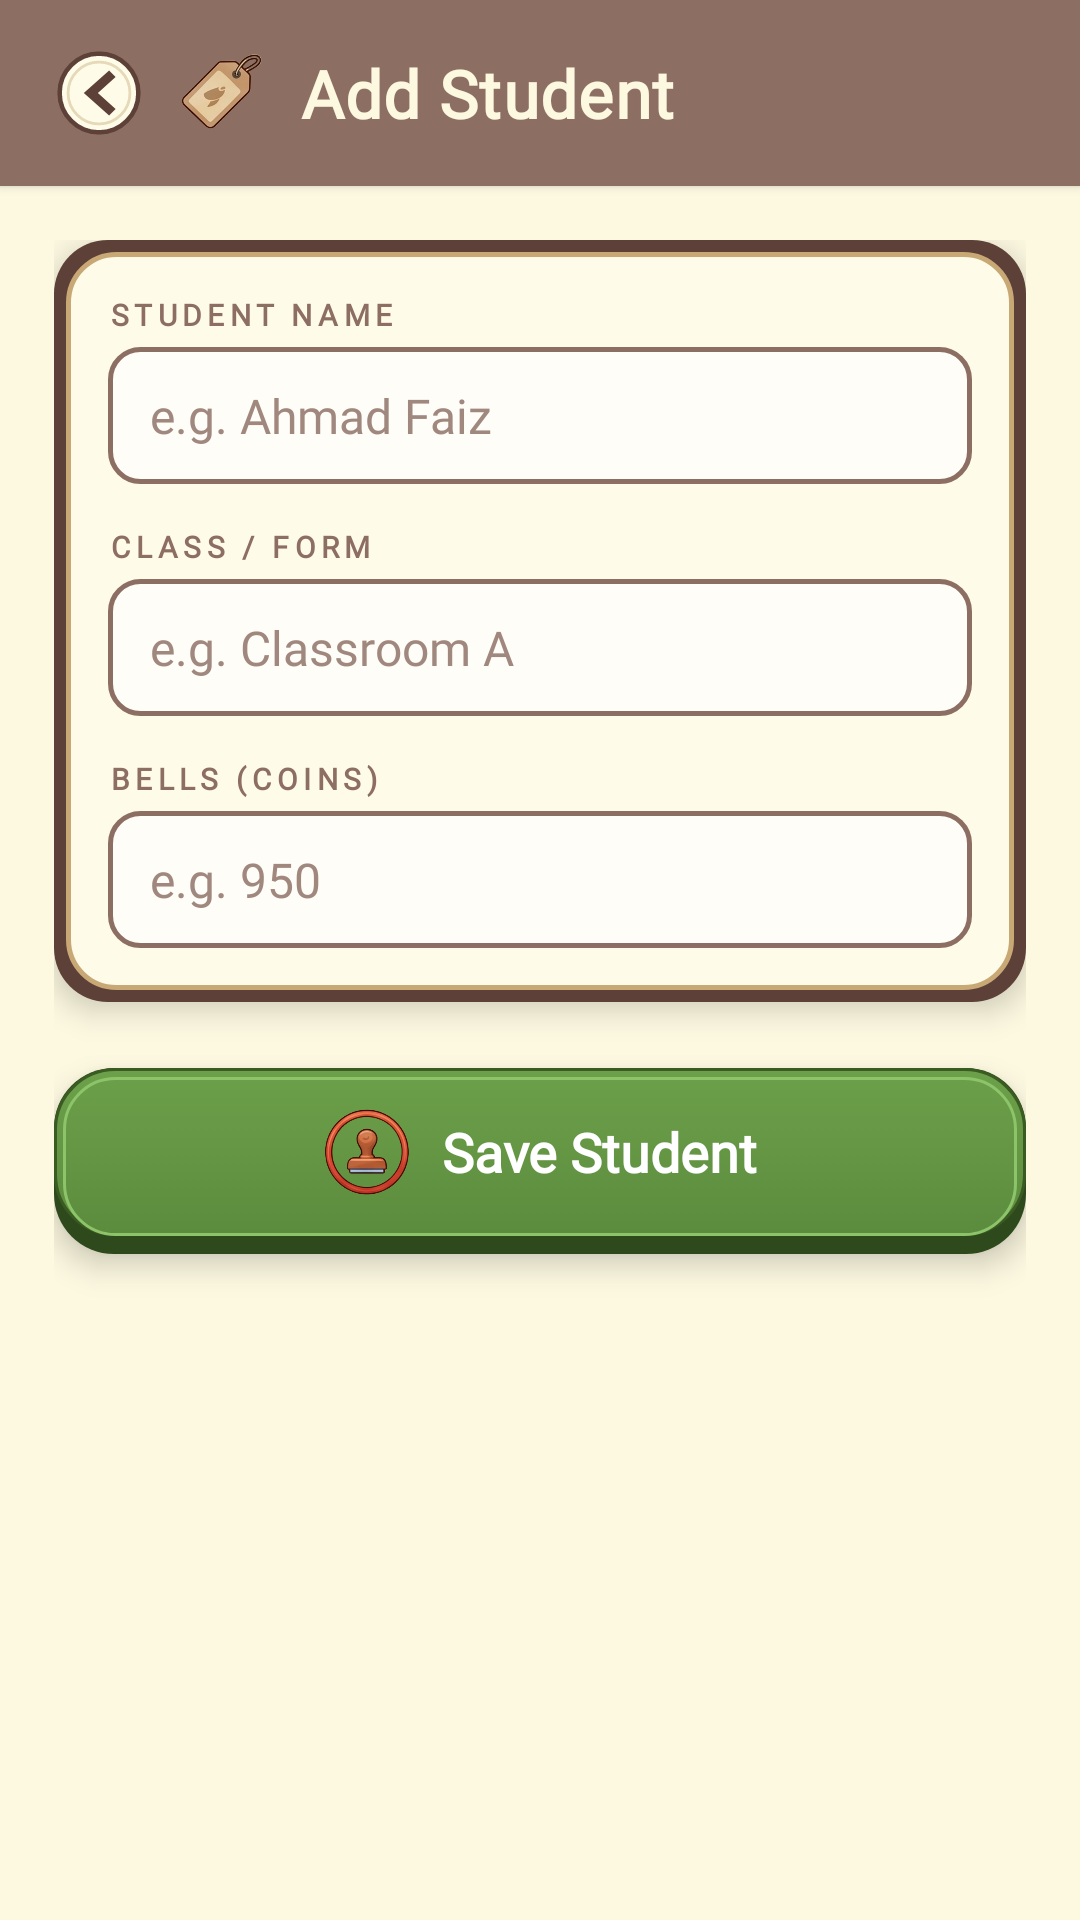

Point at icon controls on the screen. Image size 1080 × 1920, points as (x=x, y=y).
back chevron: (x=99, y=93)
id tag: (x=221, y=91)
stamp confirm: (x=367, y=1152)
